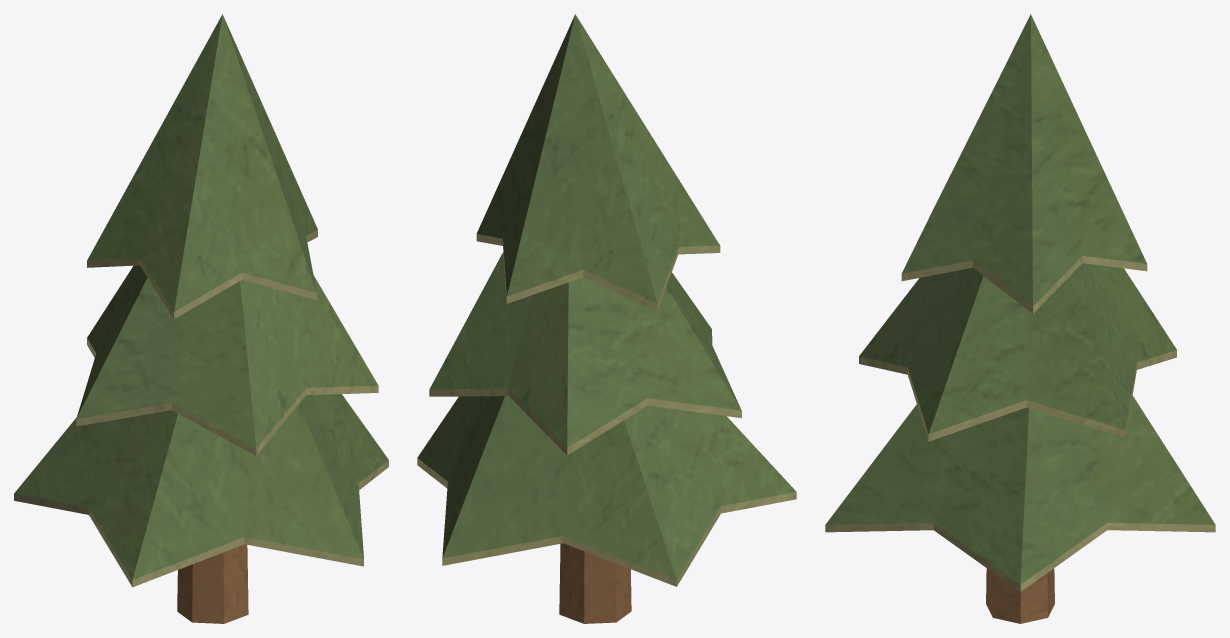
Rendered from pino-joven.glb.
3 renders of one model, left to right at view 1: azimuth 30°, elevation 25°; view 2: azimuth 150°, elevation 25°; view 3: azimuth 270°, elevation 25°, orthographic.
Visible parts, largest first — view 1: pino-joven; view 2: pino-joven; view 3: pino-joven.
Part boxes in pixels (x1,y1,x2,y2): pino-joven: [14, 14, 388, 623]; pino-joven: [417, 14, 796, 623]; pino-joven: [825, 14, 1215, 623].
Bounding box in the file's own units: 3.26 × 5.8 × 3.42.
1 material, 1 textured.
